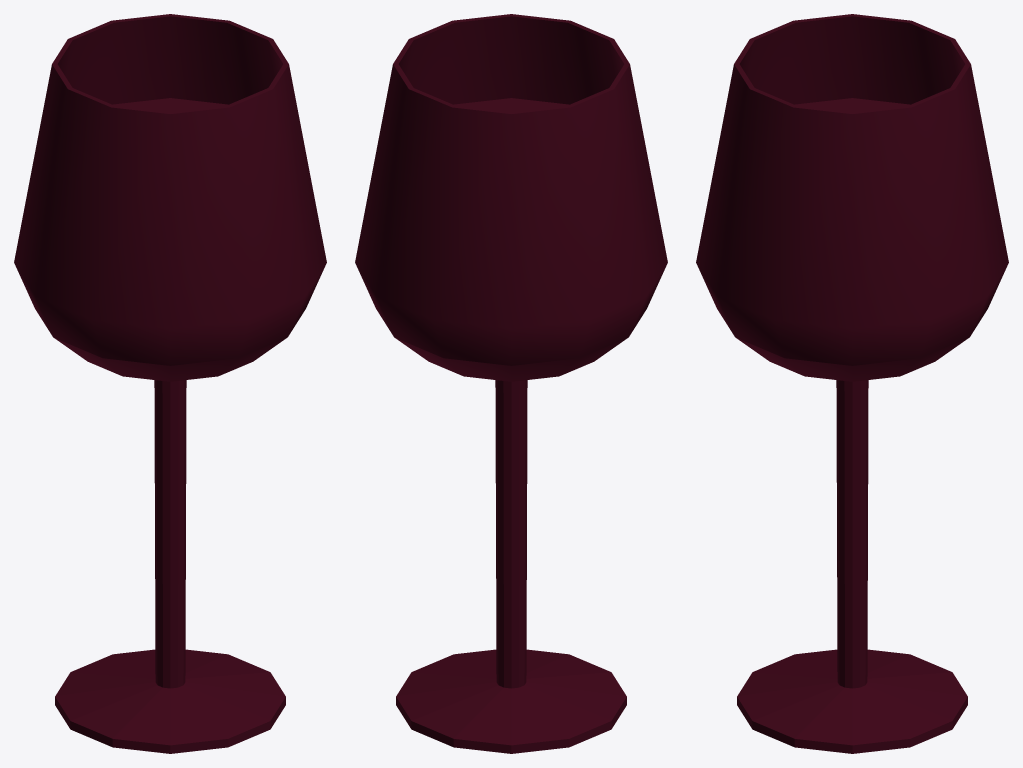
Rendered from Recipe_LoveBite_v01.fbx.
3 views of the same model, side by side, from view 1: azimuth 30°, elevation 25°; view 2: azimuth 150°, elevation 25°; view 3: azimuth 270°, elevation 25° (orthographic).
Parts seen in each view (by area): view 1: Rest_Bar_Set04_WineGlass_01, Rest_Bar_Set04_WineGlass_Liquid; view 2: Rest_Bar_Set04_WineGlass_01, Rest_Bar_Set04_WineGlass_Liquid; view 3: Rest_Bar_Set04_WineGlass_01, Rest_Bar_Set04_WineGlass_Liquid.
Part boxes in pixels (left/top/right/bottom): Rest_Bar_Set04_WineGlass_01: left=14, top=14, right=326, bottom=753; Rest_Bar_Set04_WineGlass_Liquid: left=113, top=98, right=227, bottom=111; Rest_Bar_Set04_WineGlass_01: left=355, top=14, right=667, bottom=753; Rest_Bar_Set04_WineGlass_Liquid: left=454, top=98, right=568, bottom=111; Rest_Bar_Set04_WineGlass_01: left=696, top=14, right=1008, bottom=753; Rest_Bar_Set04_WineGlass_Liquid: left=795, top=98, right=909, bottom=111.
Bounding box in the file's own units: 2.84 × 6.41 × 2.84.
